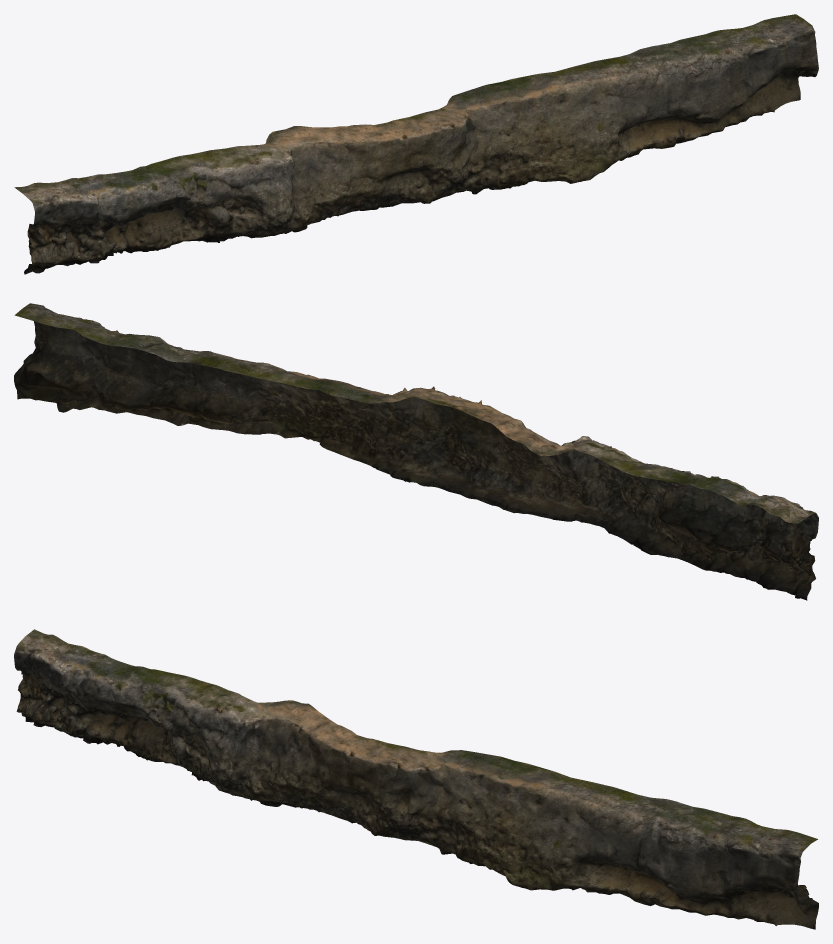
The model's file is cliff.glb.
The picture shows the model from 3 angles, top to bottom: view 1: azimuth 30°, elevation 25°; view 2: azimuth 150°, elevation 25°; view 3: azimuth 330°, elevation 25°; orthographic projection. The views are drawn at different scales.
Parts seen in each view (by area): view 1: coastal_cliff_01; view 2: coastal_cliff_01; view 3: coastal_cliff_01.
Part boxes in pixels (<box>): coastal_cliff_01: <box>14,14,818,274</box>; coastal_cliff_01: <box>14,303,818,600</box>; coastal_cliff_01: <box>14,629,818,929</box>.
Bounding box in the file's own units: 91.98 × 10.32 × 10.96.
Materials: 1 (1 with a texture image).
